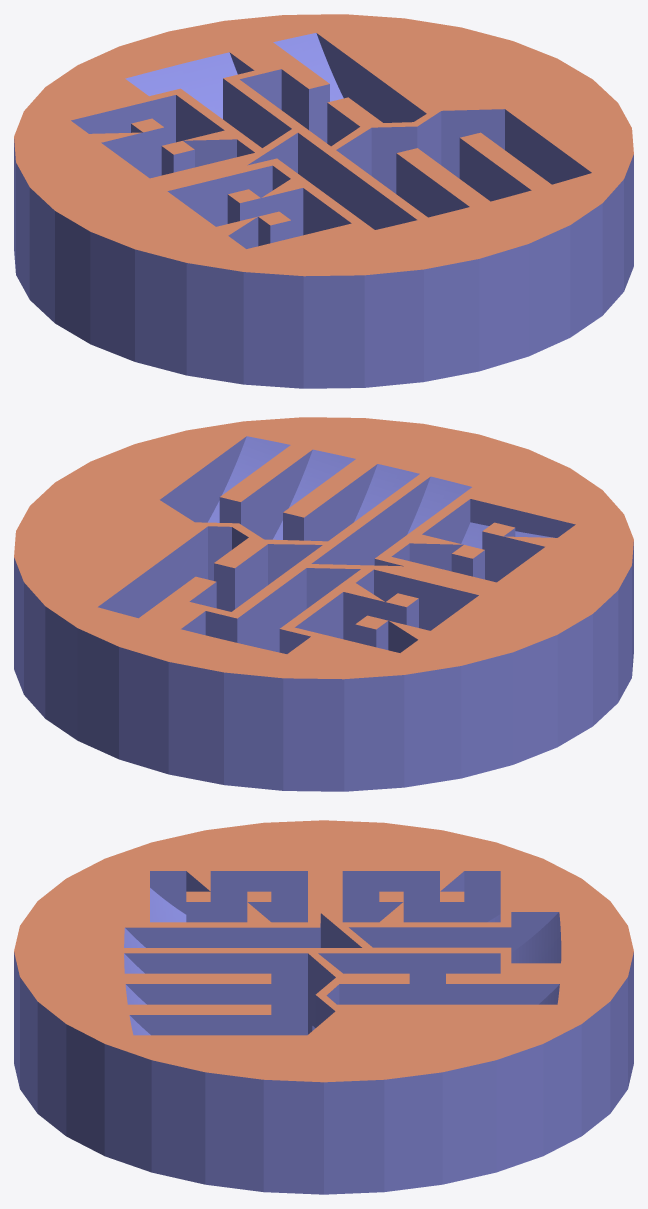
File: haus_rev2.gltf.glb
The picture shows the model from 3 angles, top to bottom: view 1: azimuth 30°, elevation 25°; view 2: azimuth 150°, elevation 25°; view 3: azimuth 270°, elevation 25°; orthographic projection.
Visible parts, largest first — view 1: Cylinder; view 2: Cylinder; view 3: Cylinder.
Part boxes in pixels (bbox=[...]): Cylinder: bbox=[14, 14, 633, 388]; Cylinder: bbox=[14, 417, 633, 791]; Cylinder: bbox=[14, 820, 633, 1194].
Size of the model in its own units: 120 by 24 by 120.
